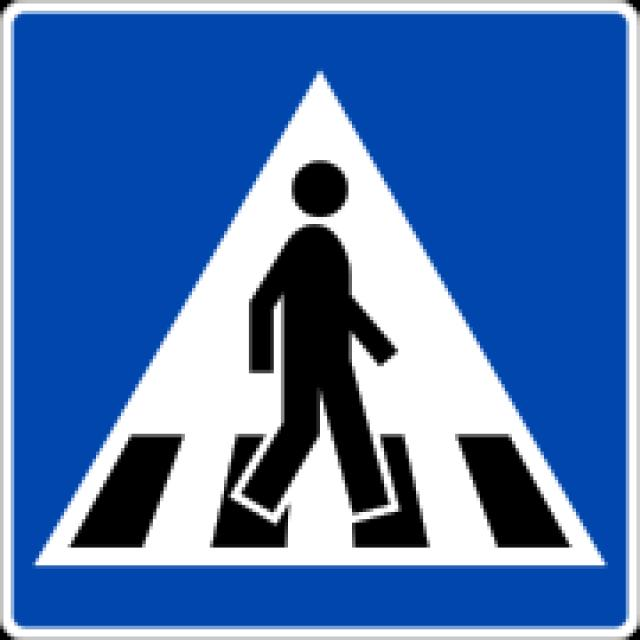Pedestrian crosswalk: (22, 51, 616, 585)
